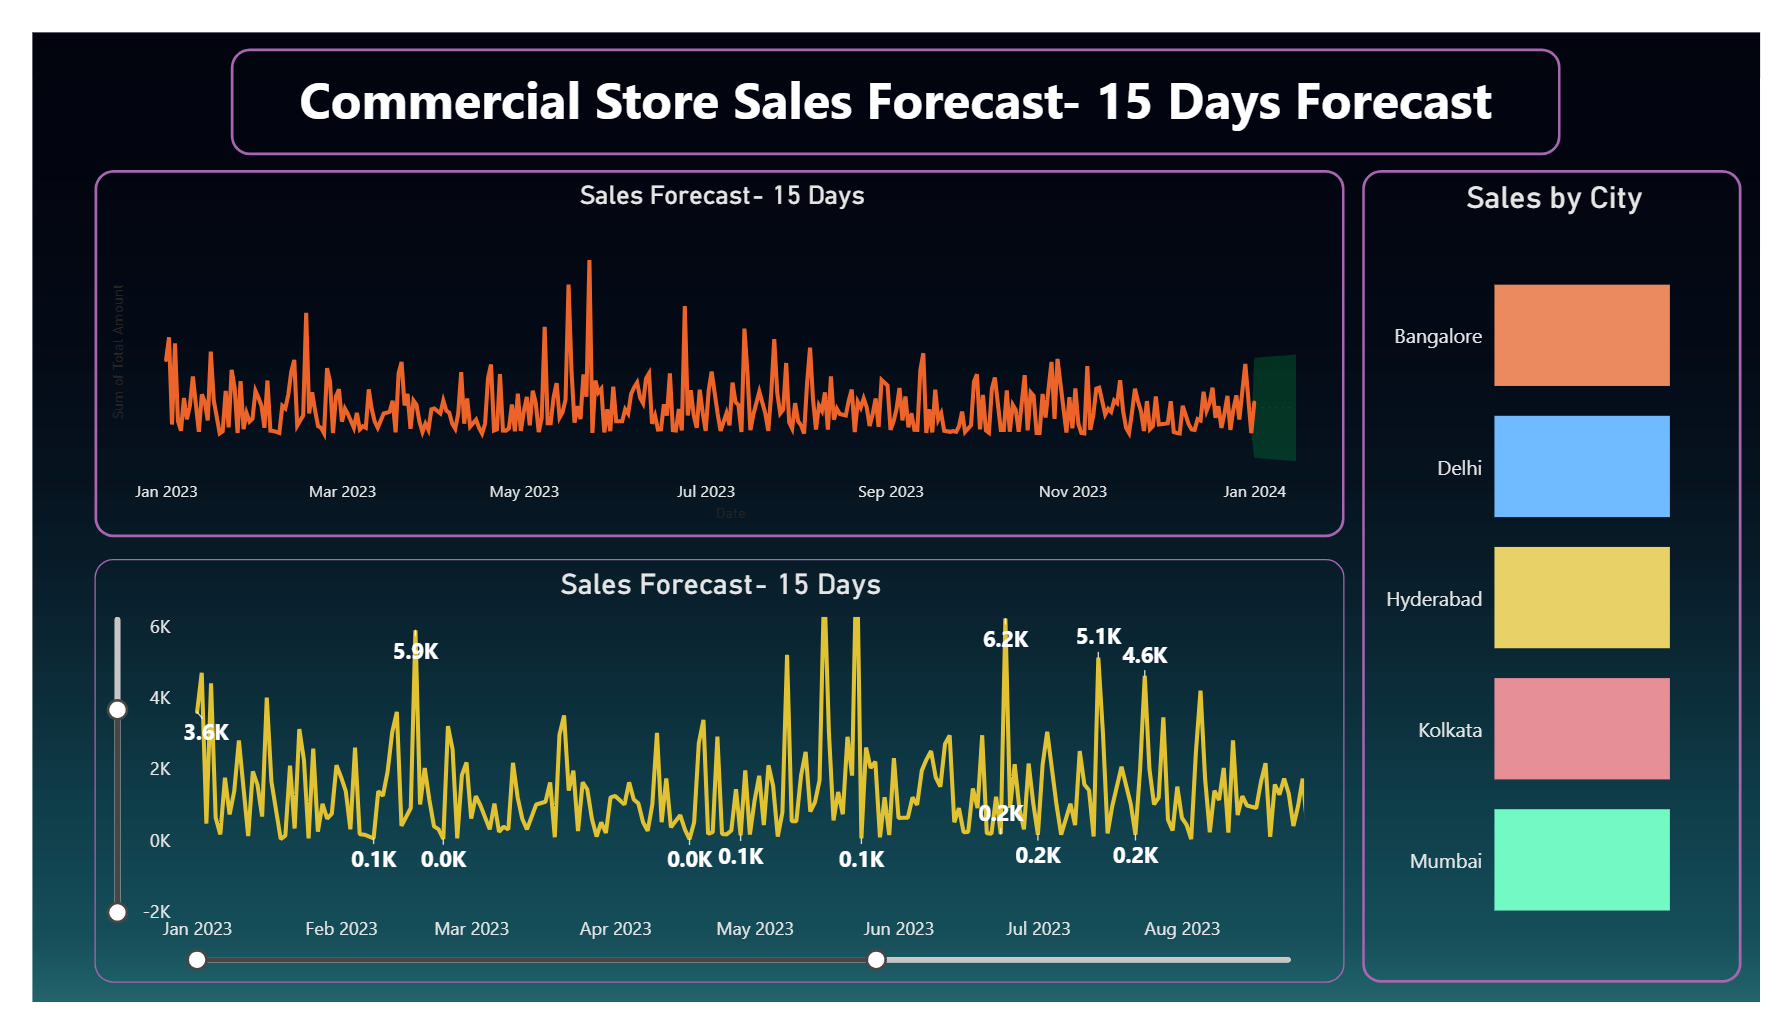

The page's visual inventory and layout, read from the dashboard file:
{"tool":"powerbi","page":{"name":"Sales Forecast","canvas":[1280,720],"ordinal":1},"visuals":[{"type":"lineChart","title":"Sales Forecast- 15 Days","fields":{"Y":["Sum(final_sales.Total Amount)"],"Category":["final_sales.Date"]},"box":[46.1,102.2,925.9,272.2],"z":0},{"type":"lineChart","title":"Sales Forecast- 15 Days","fields":{"Y":["Sum(final_sales.Total Amount)"],"Category":["final_sales.Date"]},"box":[46.1,390.2,925.9,313.9],"z":1000},{"type":"textbox","box":[146.9,11.5,985,79.2],"z":2000},{"type":"clusteredBarChart","title":"Sales by City","fields":{"Category":["final_sales.City"],"Y":["Sum(Salesforecast.Total Sales)"]},"box":[985,102.2,280.8,601.9],"z":3000}]}

Visuals, with their boxes in screenshot pixels (x1, y1, x2, y2), scaled from the page's 1280x720 canvas onto the 1792x1036 screenshot:
"Sales Forecast- 15 Days" lineChart: [65, 147, 1361, 539]
"Sales Forecast- 15 Days" lineChart: [65, 561, 1361, 1013]
textbox: [206, 17, 1585, 131]
"Sales by City" clusteredBarChart: [1379, 147, 1772, 1013]
